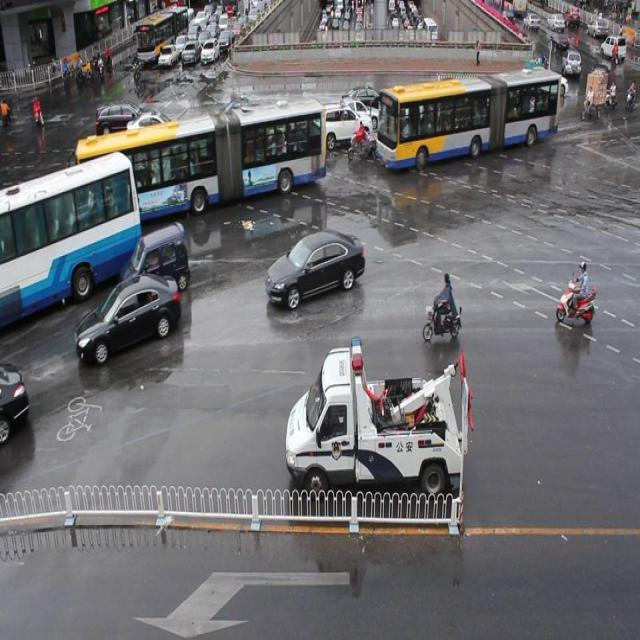bus: (286, 333, 474, 494)
car: (76, 276, 181, 360), (266, 231, 363, 307), (123, 225, 190, 292), (95, 102, 157, 143), (1, 359, 30, 445), (318, 101, 373, 146), (393, 86, 450, 129), (222, 107, 274, 154), (129, 110, 180, 156), (240, 114, 282, 160), (440, 92, 484, 130), (215, 100, 269, 130), (457, 75, 503, 108), (519, 66, 566, 98), (483, 80, 523, 116), (334, 98, 379, 130), (512, 78, 549, 114), (341, 86, 383, 115)
van: (75, 101, 325, 215), (1, 156, 144, 320), (378, 69, 560, 168)
